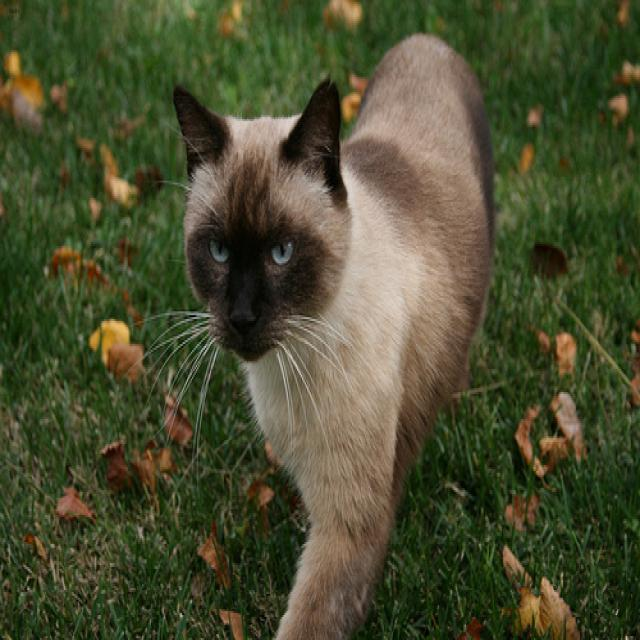Siamese: (170, 74, 352, 367)
